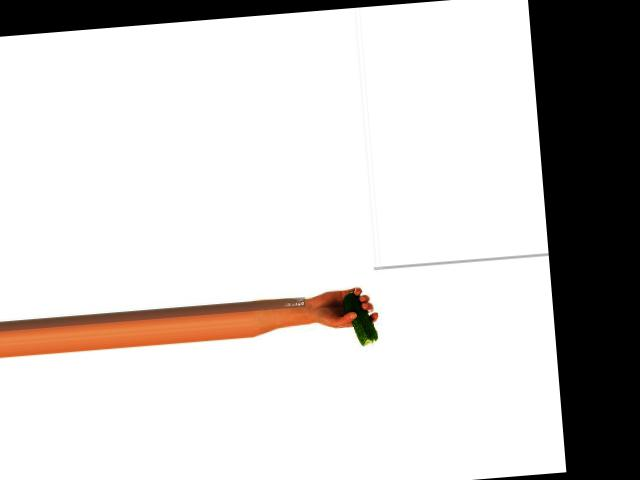cucumber: (342, 290, 377, 346)
